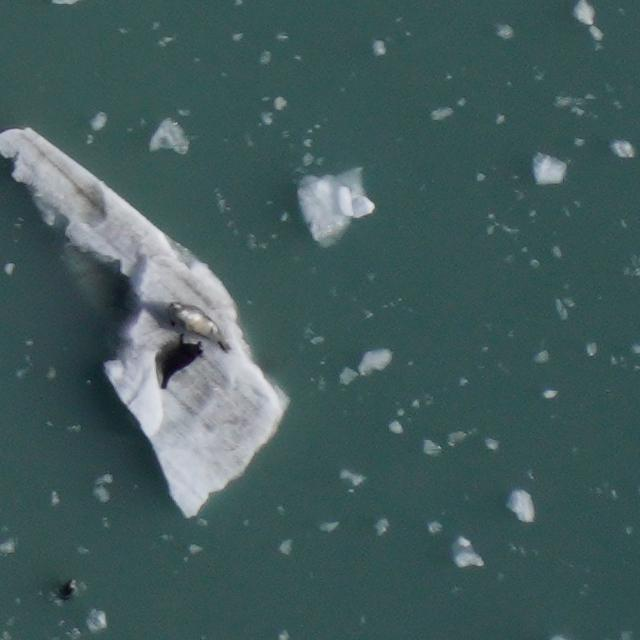seal: (164, 298, 237, 357), (157, 330, 207, 393)
